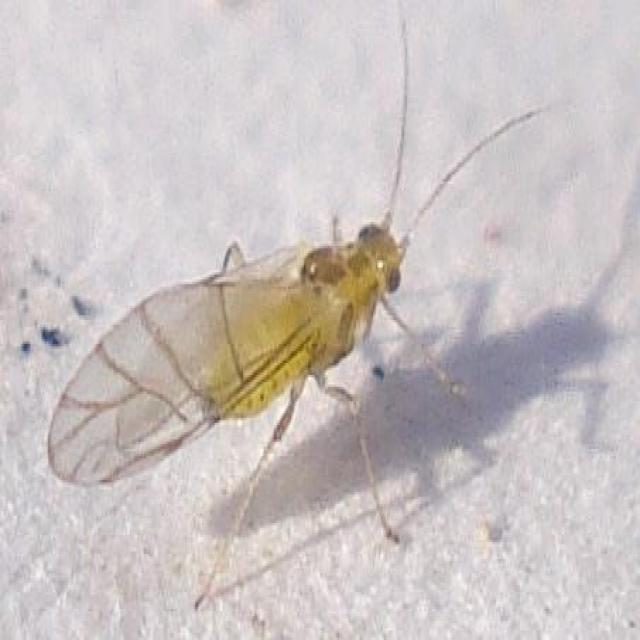Aphids: (53, 68, 545, 586)
